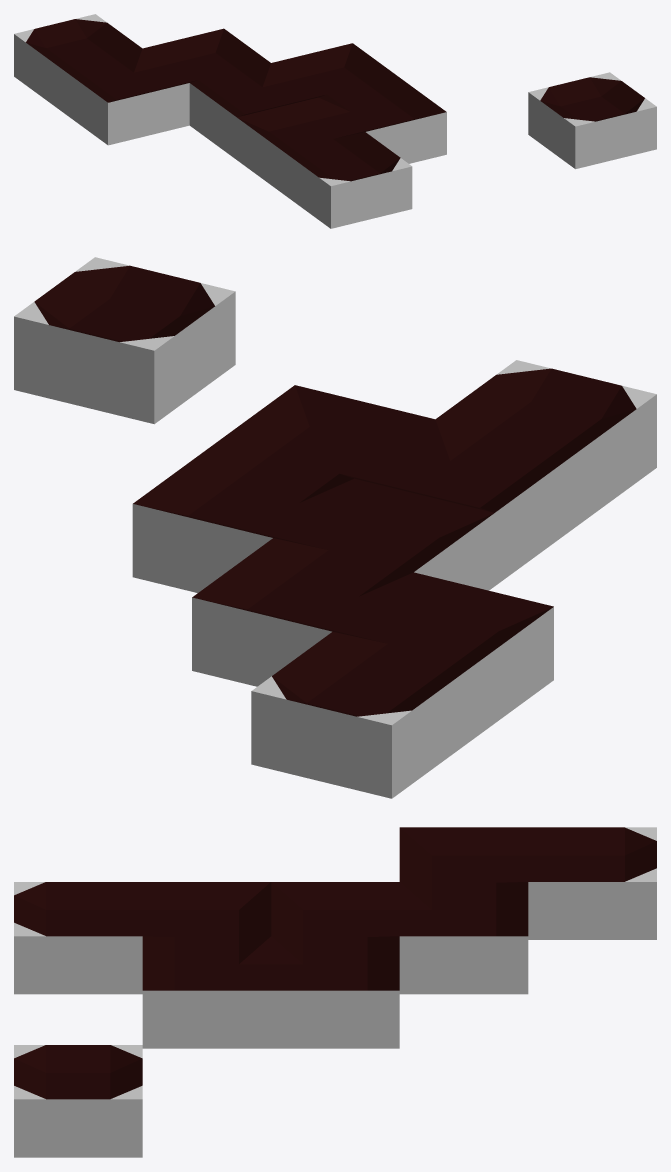
File: 27s_path.obj
3 views of the same model, one above another, from view 1: azimuth 30°, elevation 25°; view 2: azimuth 150°, elevation 25°; view 3: azimuth 270°, elevation 25° (orthographic). The views are drawn at different scales.
Parts seen in each view (by area): view 1: hole.4.0_Cube.204, ending.1.0_ending.406, corner.0.3_corner.1007, ending.0.4_ending.405, corner.1.1_corner.1008, corner.2.1_corner.1011, corner.1.3_corner.1010, corner.2.2_corner.1012, corner.1.2_corner.1009; view 2: hole.4.0_Cube.204, ending.0.4_ending.405, ending.1.0_ending.406, corner.2.2_corner.1012, corner.0.3_corner.1007, corner.1.3_corner.1010, corner.1.2_corner.1009, corner.2.1_corner.1011, corner.1.1_corner.1008; view 3: ending.0.4_ending.405, ending.1.0_ending.406, hole.4.0_Cube.204, corner.1.3_corner.1010, corner.2.1_corner.1011, corner.2.2_corner.1012, corner.0.3_corner.1007, corner.1.1_corner.1008, corner.1.2_corner.1009.
Boxes of the visible parts, left/top/right/bottom form: hole.4.0_Cube.204: left=528, top=72, right=656, bottom=169; ending.1.0_ending.406: left=283, top=132, right=412, bottom=228; corner.0.3_corner.1007: left=61, top=48, right=189, bottom=145; ending.0.4_ending.405: left=14, top=14, right=142, bottom=110; corner.1.1_corner.1008: left=236, top=97, right=364, bottom=193; corner.2.1_corner.1011: left=318, top=78, right=446, bottom=163; corner.1.3_corner.1010: left=142, top=28, right=270, bottom=88; corner.2.2_corner.1012: left=271, top=43, right=399, bottom=102; corner.1.2_corner.1009: left=189, top=63, right=316, bottom=159; hole.4.0_Cube.204: left=14, top=257, right=235, bottom=424; ending.0.4_ending.405: left=251, top=632, right=472, bottom=798; ending.1.0_ending.406: left=435, top=360, right=656, bottom=526; corner.2.2_corner.1012: left=132, top=444, right=353, bottom=592; corner.0.3_corner.1007: left=333, top=572, right=553, bottom=739; corner.1.3_corner.1010: left=192, top=538, right=413, bottom=686; corner.1.2_corner.1009: left=273, top=478, right=494, bottom=590; corner.2.1_corner.1011: left=214, top=385, right=434, bottom=488; corner.1.1_corner.1008: left=356, top=419, right=575, bottom=585; ending.0.4_ending.405: left=528, top=827, right=656, bottom=939; ending.1.0_ending.406: left=14, top=882, right=142, bottom=994; hole.4.0_Cube.204: left=14, top=1045, right=142, bottom=1157; corner.1.3_corner.1010: left=399, top=882, right=528, bottom=994; corner.2.1_corner.1011: left=142, top=936, right=271, bottom=1048; corner.2.2_corner.1012: left=271, top=936, right=399, bottom=1048; corner.0.3_corner.1007: left=399, top=827, right=528, bottom=896; corner.1.1_corner.1008: left=142, top=882, right=271, bottom=950; corner.1.2_corner.1009: left=271, top=882, right=399, bottom=950.
Bounding box in the file's own units: 10 × 1 × 10.
